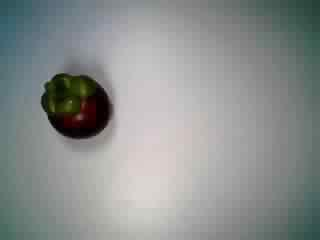mangosteen: (36, 66, 114, 142)
